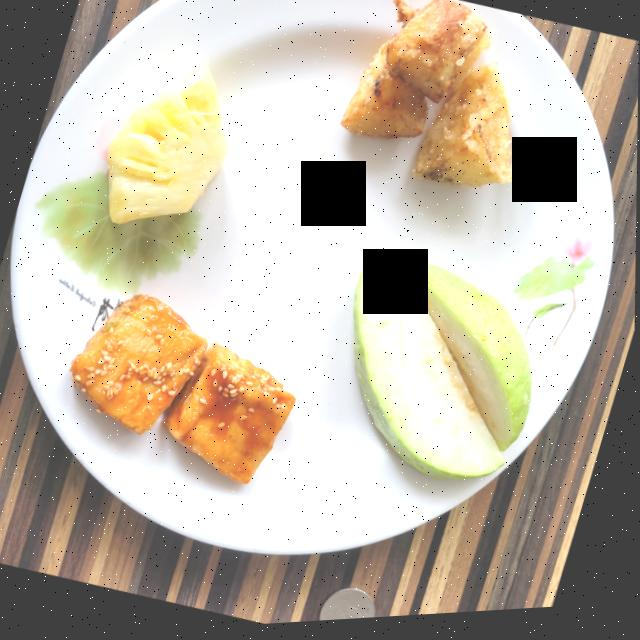coin: (320, 592, 375, 625)
creamy tofu: (70, 296, 295, 487)
fried potato: (340, 0, 514, 193)
guava -sliced-: (354, 267, 532, 484)
pineapple: (106, 65, 228, 225)
